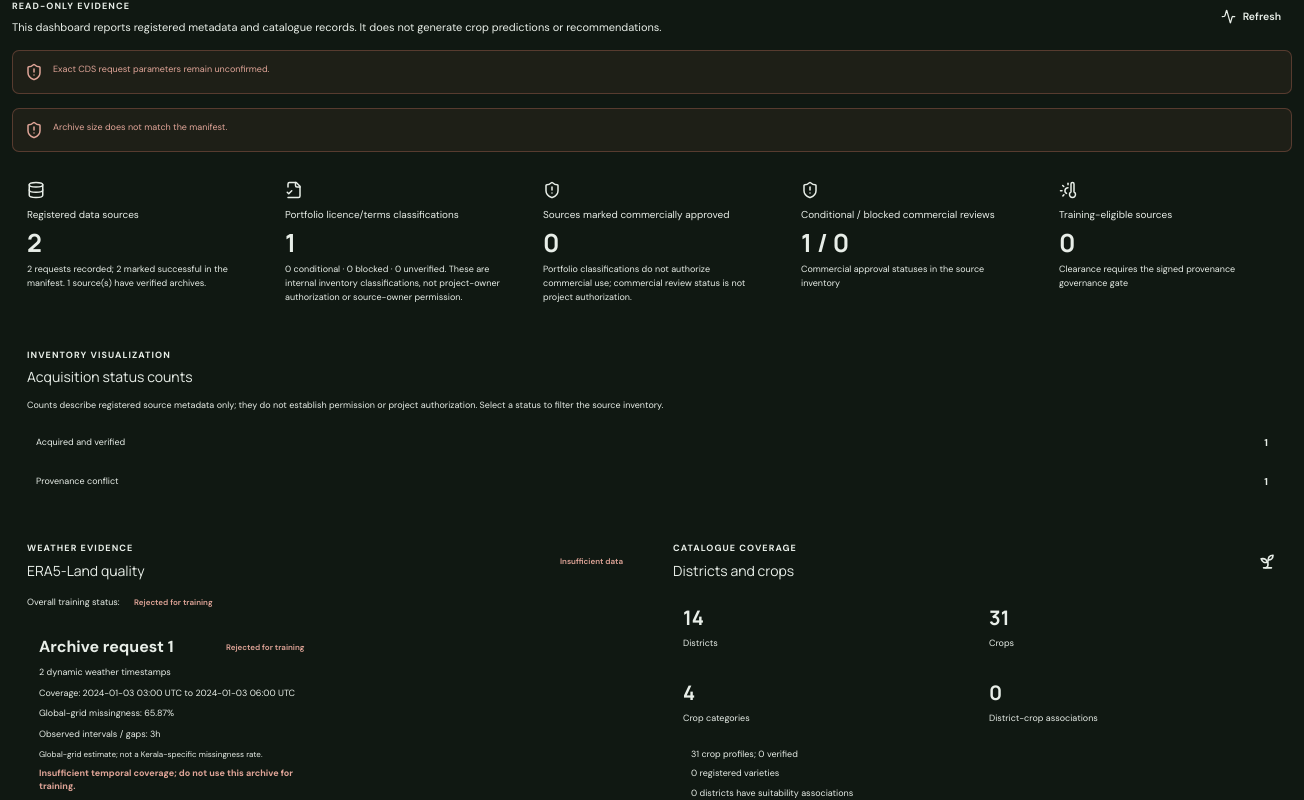
Scenario: DataIntelligenceDashboard › uses acquisition metadata for an interactive source inventory chart
Expected: the text "Counts describe registered source metadata only" is shown, [27,399,663,411]
Click the button with aria-label "Filter inventory by Provenance conflict (1)" at [77, 481], box [27,464,1277,498]
(page scrolled)
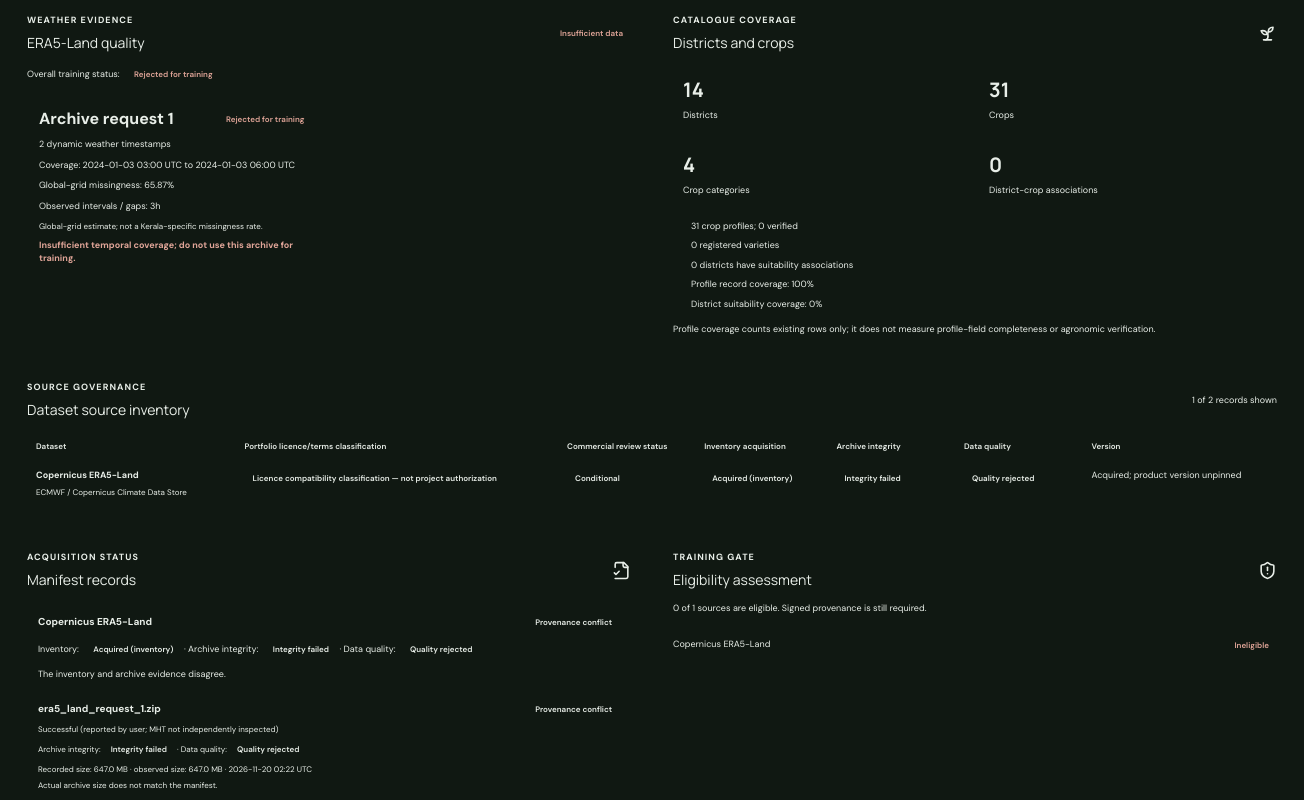
Now the text "1 of 2 records shown" is shown, box [1192,394,1277,408]
